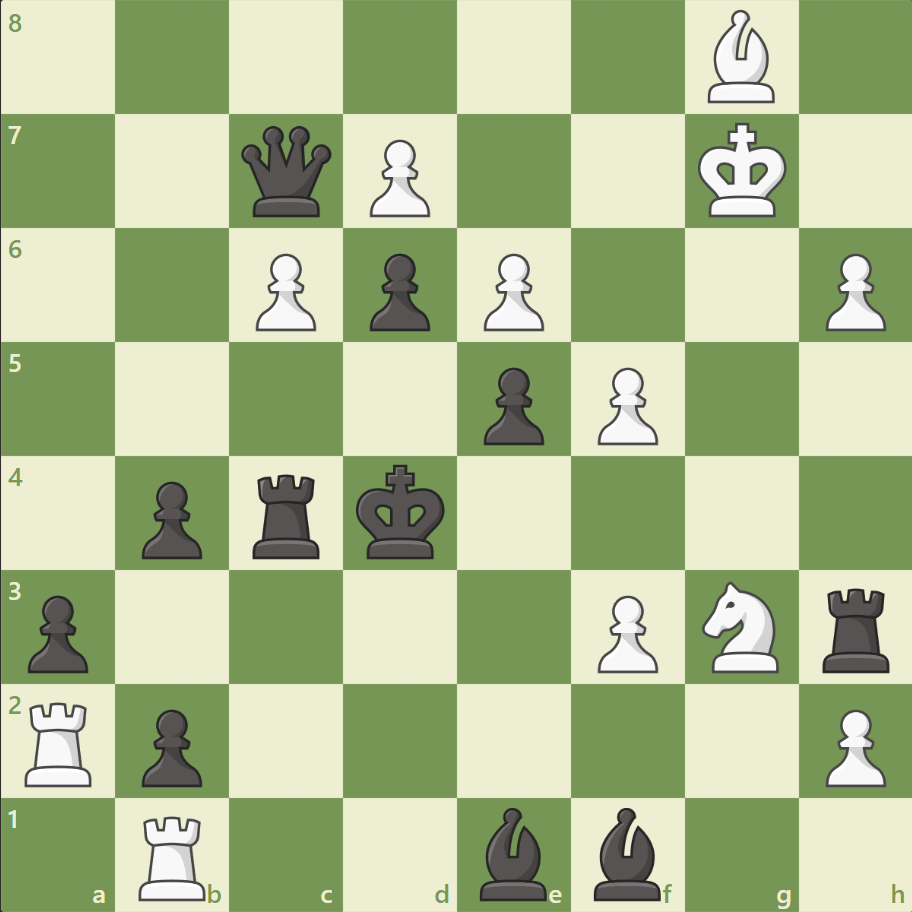B: (698, 6, 782, 109)
K: (692, 117, 792, 225)
N: (692, 575, 789, 677)
P: (247, 246, 322, 337), (474, 246, 549, 337), (361, 132, 435, 223), (815, 246, 889, 337), (588, 359, 662, 450), (588, 586, 662, 677), (815, 700, 889, 791)
R: (19, 693, 102, 790), (133, 806, 215, 904)
b: (471, 801, 555, 904), (585, 801, 669, 904)
k: (351, 458, 451, 566)
p: (474, 359, 549, 450), (133, 473, 208, 564), (20, 586, 95, 677), (133, 700, 208, 791), (361, 246, 435, 337)
q: (237, 122, 336, 222)
r: (246, 466, 329, 563), (814, 579, 897, 676)
